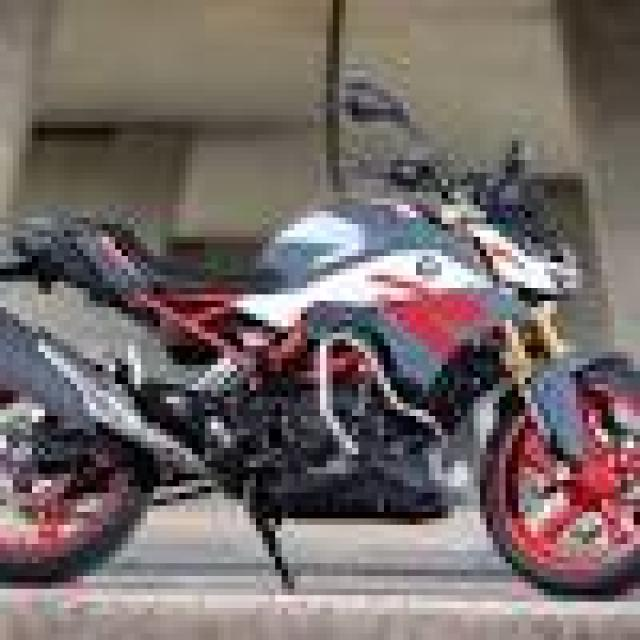Bike: (0, 95, 640, 595)
